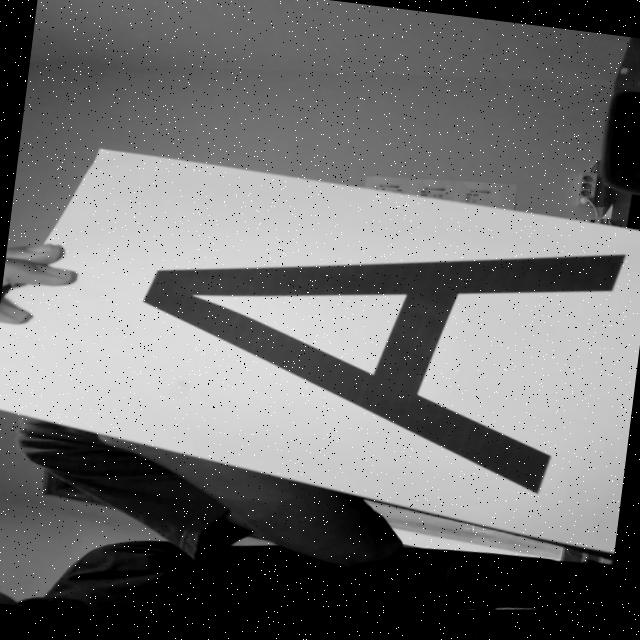a: (104, 181, 631, 464)
